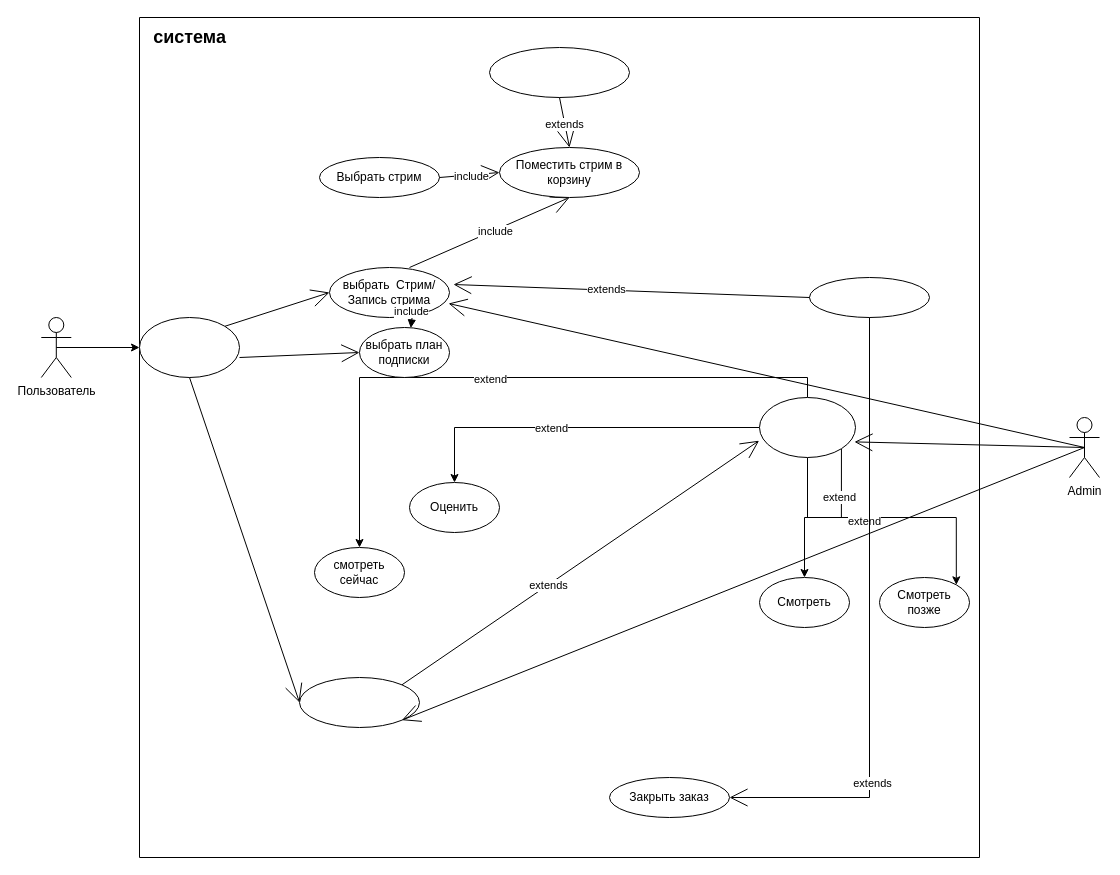
The diagram is 1120 pixels wide and 875 high, and some of its shapes have lost their labels. The centre of each missing label's shape, as x and y in pixels:
Информация О стриме/запись стрима: point 807,427
Обновить список стримов: point 359,702
Отменить заказ: point 869,297
Создать учетную запись: point 189,347
Удалить стрим из корзины: point 559,72
